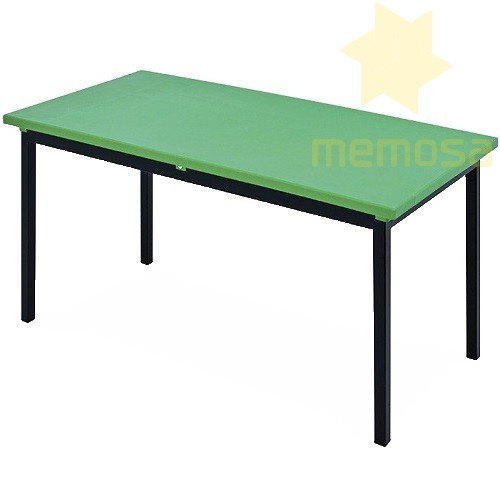m01: (3, 69, 500, 446)
